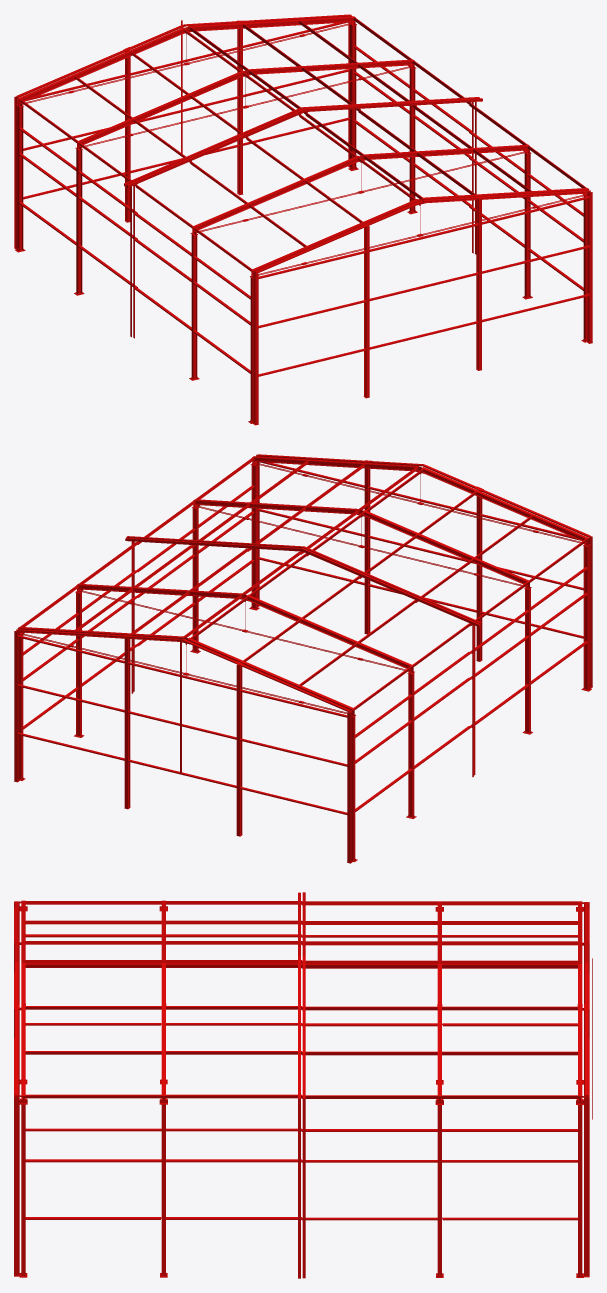
The model's file is house2_smartUV.fbx.
3 views of the same model, one above another, from view 1: azimuth 30°, elevation 25°; view 2: azimuth 150°, elevation 25°; view 3: azimuth 270°, elevation 25° (orthographic). The views are drawn at different scales.
Parts seen in each view (by area): view 1: mainHouse; view 2: mainHouse; view 3: mainHouse.
Part boxes in pixels (box(x1,y1,x2,y2)): mainHouse: box(14, 14, 592, 425); mainHouse: box(14, 454, 592, 863); mainHouse: box(14, 892, 592, 1278).
Size of the model in its own units: 6711 by 7953 by 3377.
